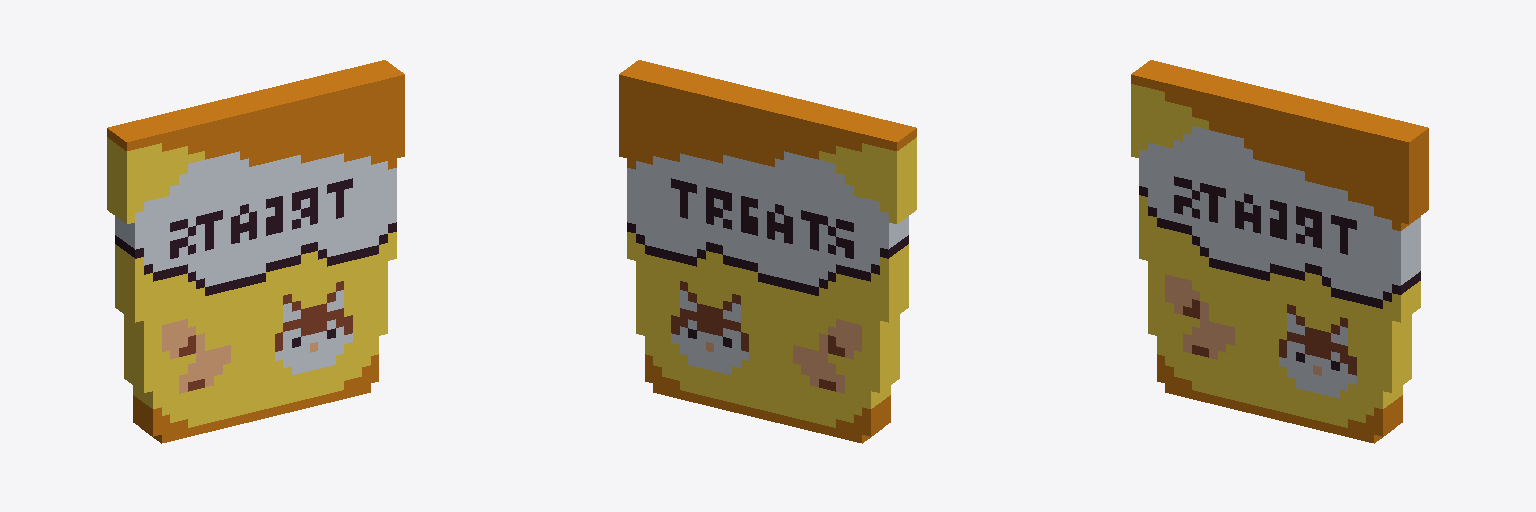
Rendered from CatTreats.obj.
3 views of the same model, side by side, from view 1: azimuth 30°, elevation 25°; view 2: azimuth 150°, elevation 25°; view 3: azimuth 330°, elevation 25° (orthographic).
Bounding box in the file's own units: 32 × 34 × 4.